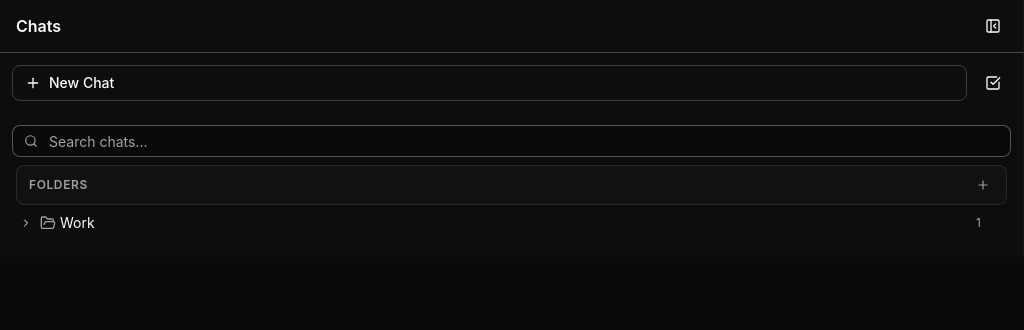
Test: SessionList › Folder Item Interactions › should toggle folder expand/collapse
The image size is (1024, 330).
Click the button named "Expand folder" at [26, 223], box 16,213 -> 36,233
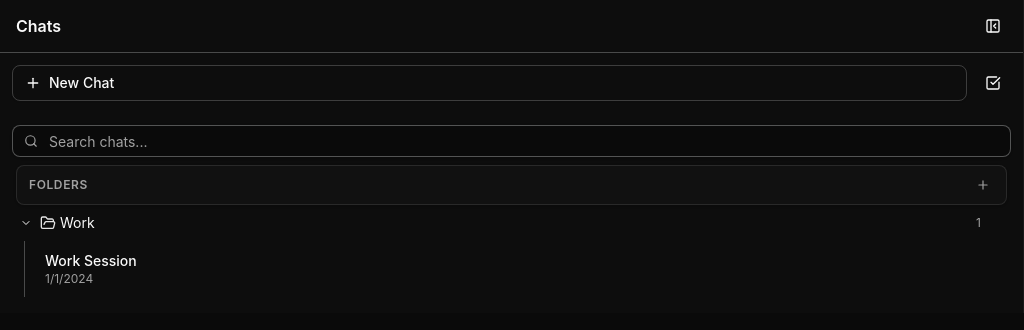
Check: the text "Work Session" is shown, box 45,252 -> 137,269
